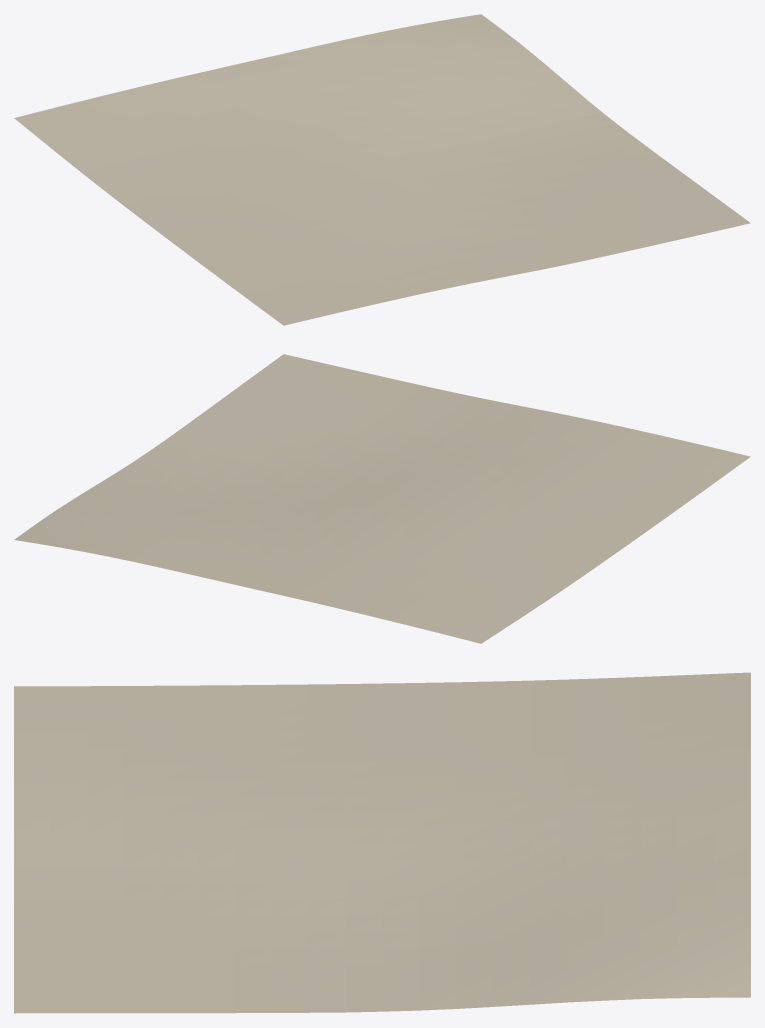
File: bolak_14_-4.glb
3 renders of one model, top to bottom at view 1: azimuth 30°, elevation 25°; view 2: azimuth 150°, elevation 25°; view 3: azimuth 270°, elevation 25°, orthographic. The views are drawn at different scales.
Parts seen in each view (by area): view 1: Yer_Tuproq-col; view 2: Yer_Tuproq-col; view 3: Yer_Tuproq-col.
Boxes of the visible parts, x1,y1,x2,y2 form: Yer_Tuproq-col: (14, 14, 750, 325); Yer_Tuproq-col: (14, 354, 750, 643); Yer_Tuproq-col: (14, 672, 750, 1013).
Bounding box in the file's own units: 400 × 18.22 × 400.
